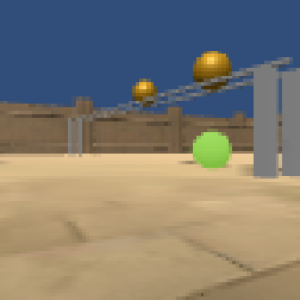goodGoal: (190, 129, 234, 169)
goodGoalMulti: (190, 49, 232, 92), (131, 80, 159, 109)
wall: (253, 65, 278, 180), (281, 69, 300, 176), (67, 117, 84, 159)
